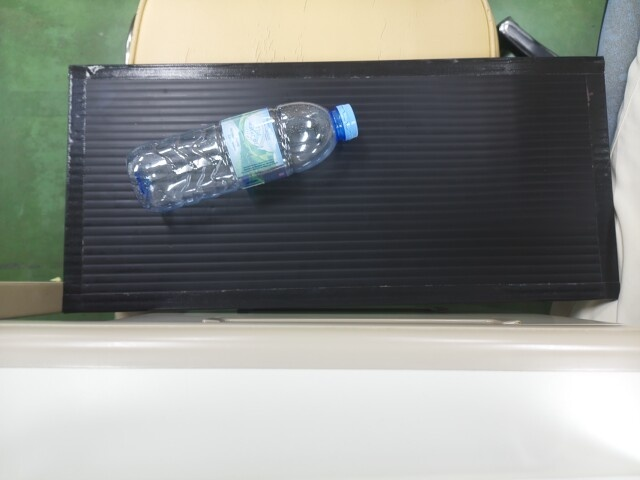plastic_bottle: (126, 103, 355, 209)
